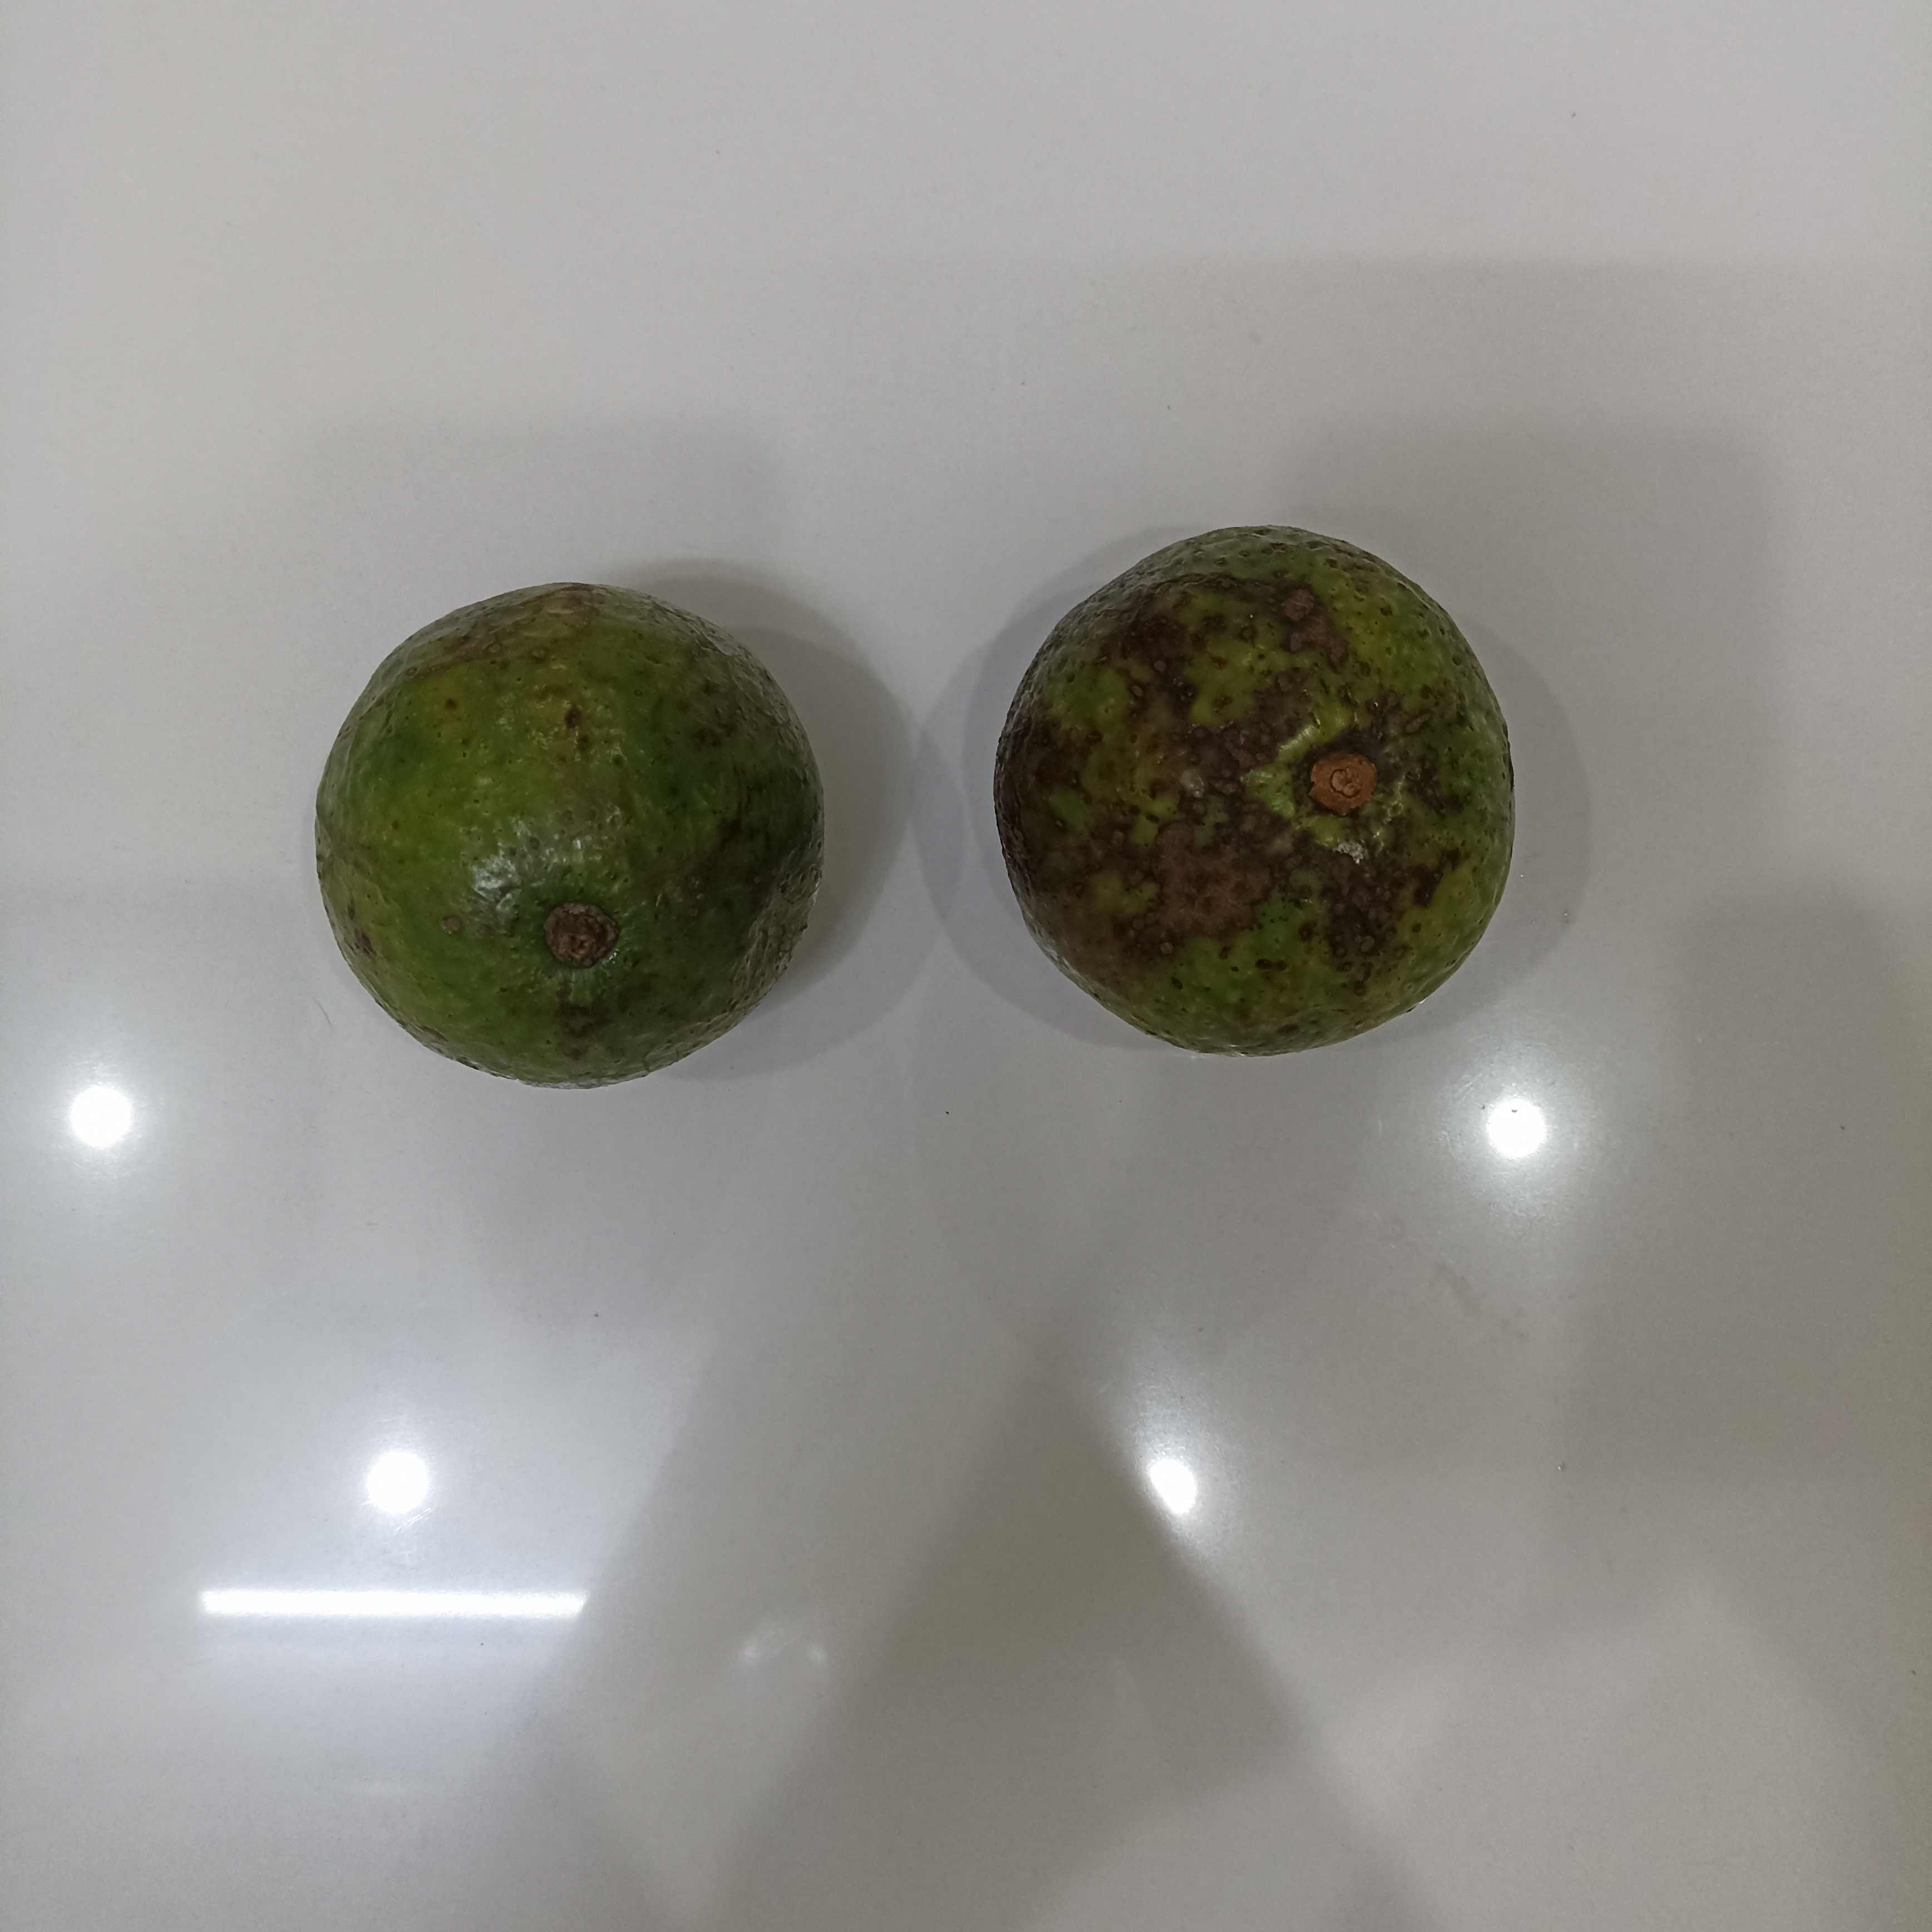Bo: (987, 525, 1521, 1064), (310, 574, 836, 1097)
